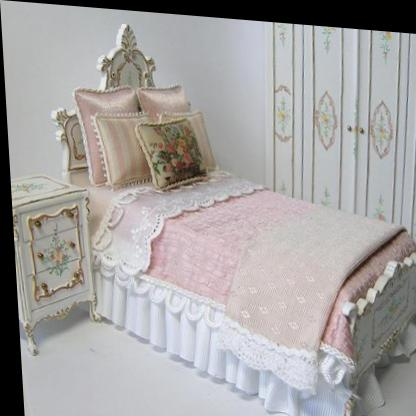Bed: (54, 23, 416, 416)
Nightstand: (9, 176, 98, 357)
